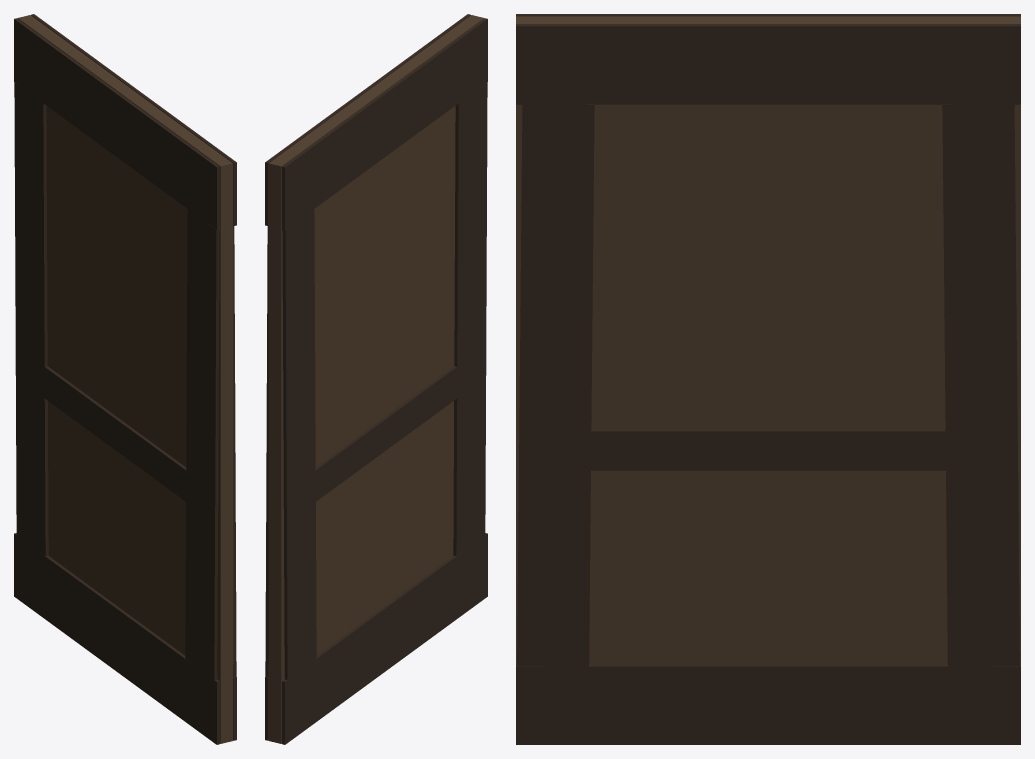
Rendered from door_panel.glb.
3 views of the same model, side by side, from view 1: azimuth 30°, elevation 25°; view 2: azimuth 150°, elevation 25°; view 3: azimuth 270°, elevation 25° (orthographic). The views are drawn at different scales.
Visible parts, largest first — view 1: Panel; view 2: Panel; view 3: Panel.
Boxes of the visible parts, x1,y1,x2,y2 form: Panel: (14, 14, 236, 744); Panel: (265, 14, 487, 744); Panel: (516, 14, 1020, 744).
Size of the model in its own units: 0.08 by 2.2 by 1.4.
